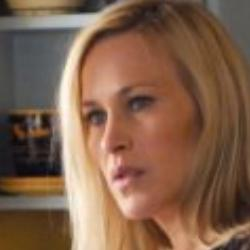face: (36, 3, 249, 234)
